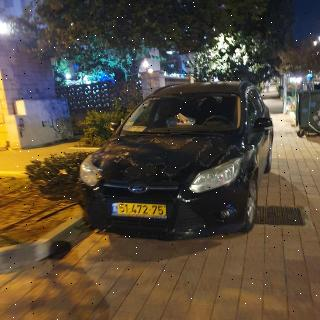LicensePlate: (116, 203, 167, 216)
